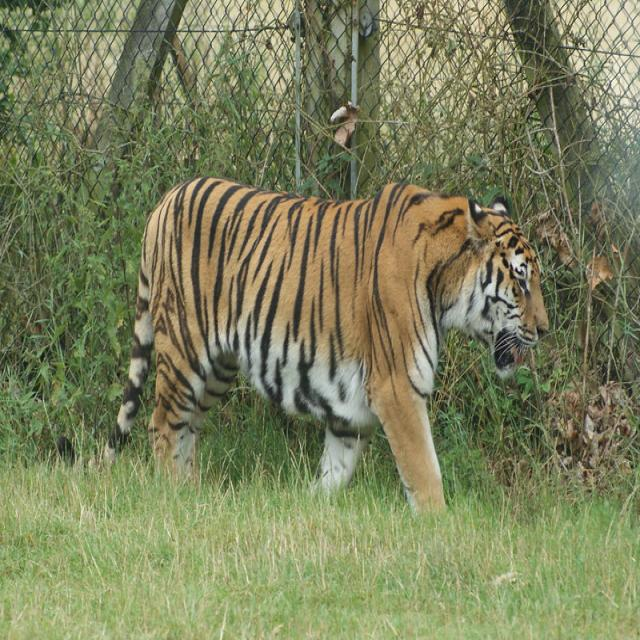Tiger: (52, 172, 551, 538)
